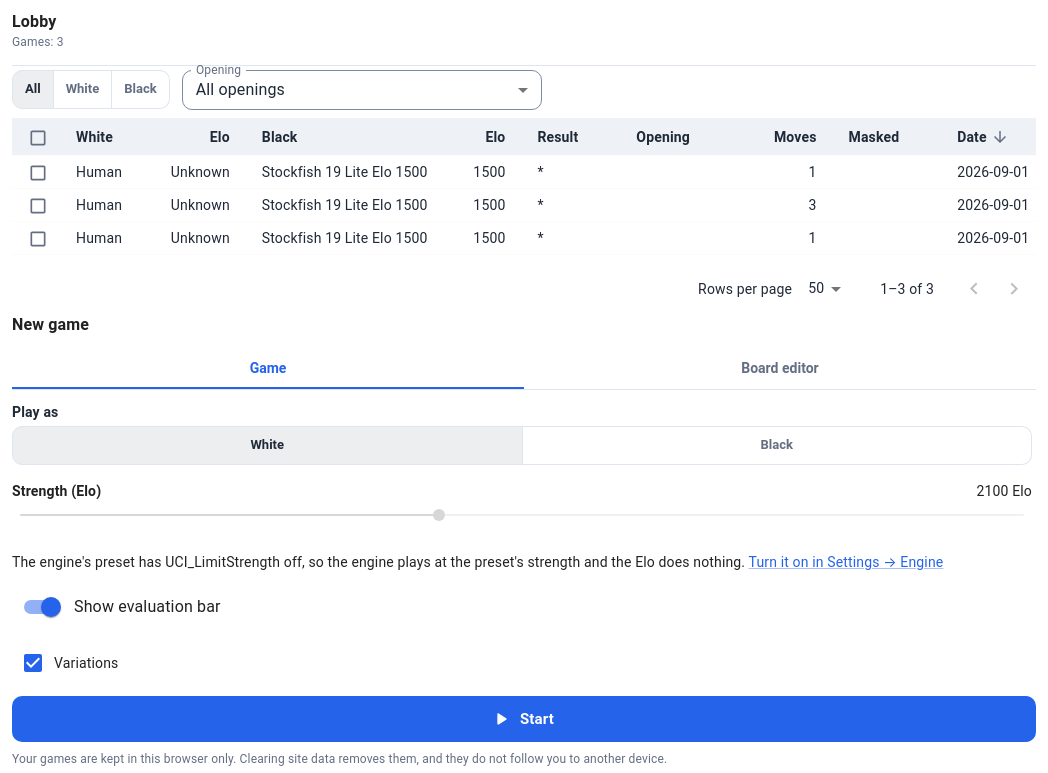
Scenario: Lobby — the table (CTA-100) › selects all over the rows the table shows, and unticks without losing other picks
The image size is (1048, 773).
Click the checkbox named "Pick the game Human – Stockfish 19 Lite Elo 1500 of 2026-09-" at (38, 206), box [28,196,48,216]
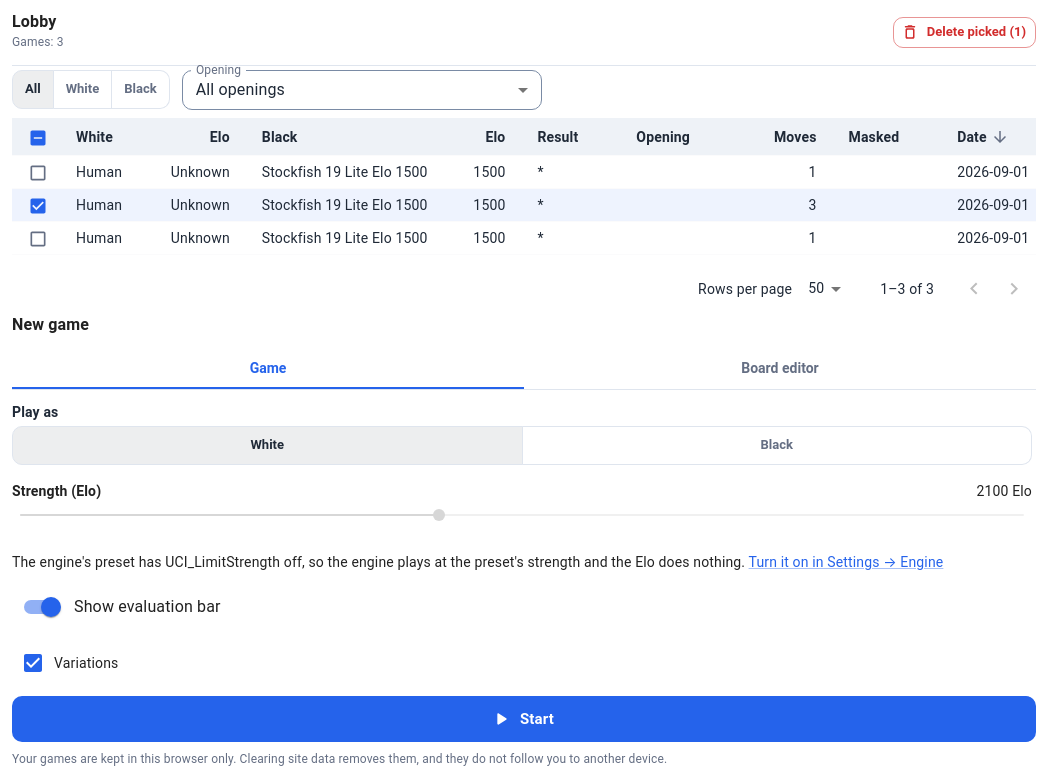
Click the checkbox named "Select all the games the table shows" at (38, 138), box [28,128,48,148]
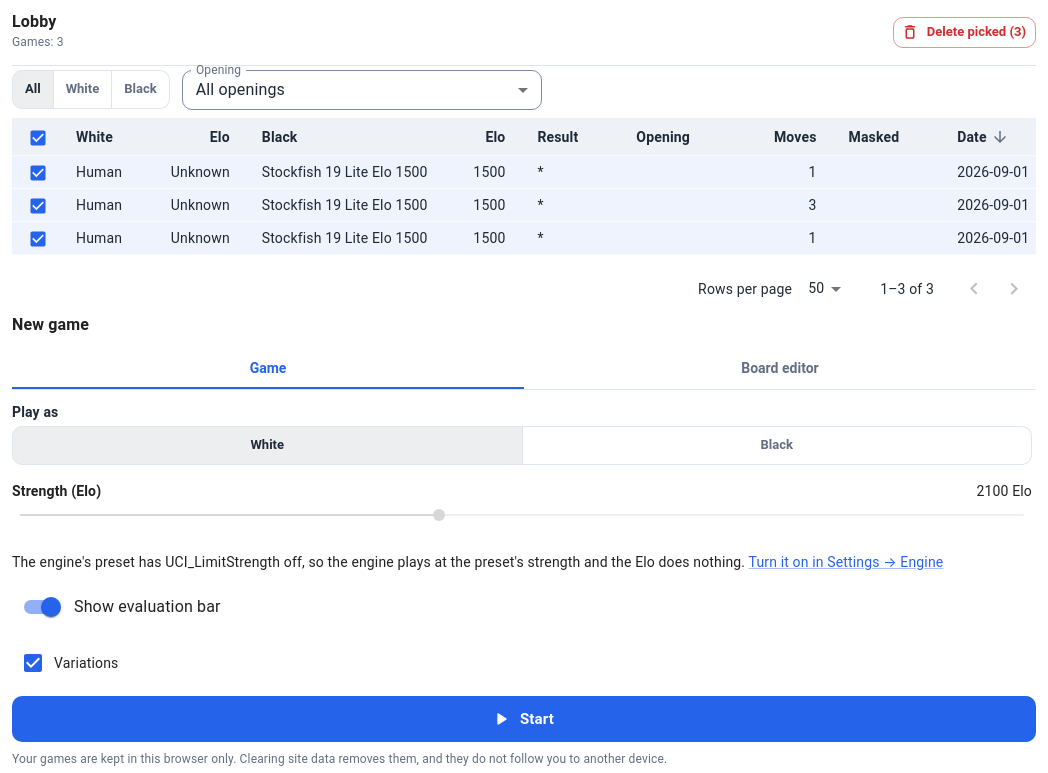
Now the checkbox named "Select all the games the table shows" is checked
Now the button with test id "played-games-delete-picked" reads "Delete picked (3)", box [893,17,1036,48]
Now the checkbox named "Pick the game Human – Stockfish 19 Lite Elo 1500 of 2026-09-" is checked, box [28,229,48,249]
Click the checkbox named "Select all the games the table shows" at (38, 138), box [28,128,48,148]
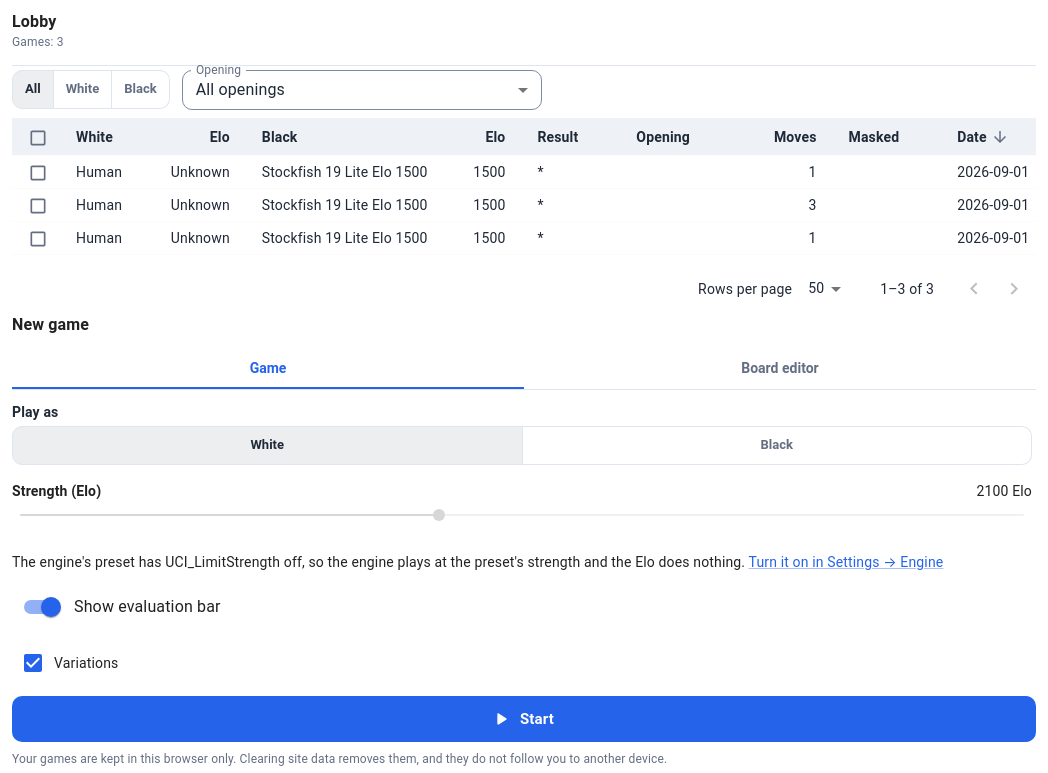
Now the button with test id "played-games-delete-picked" is gone
